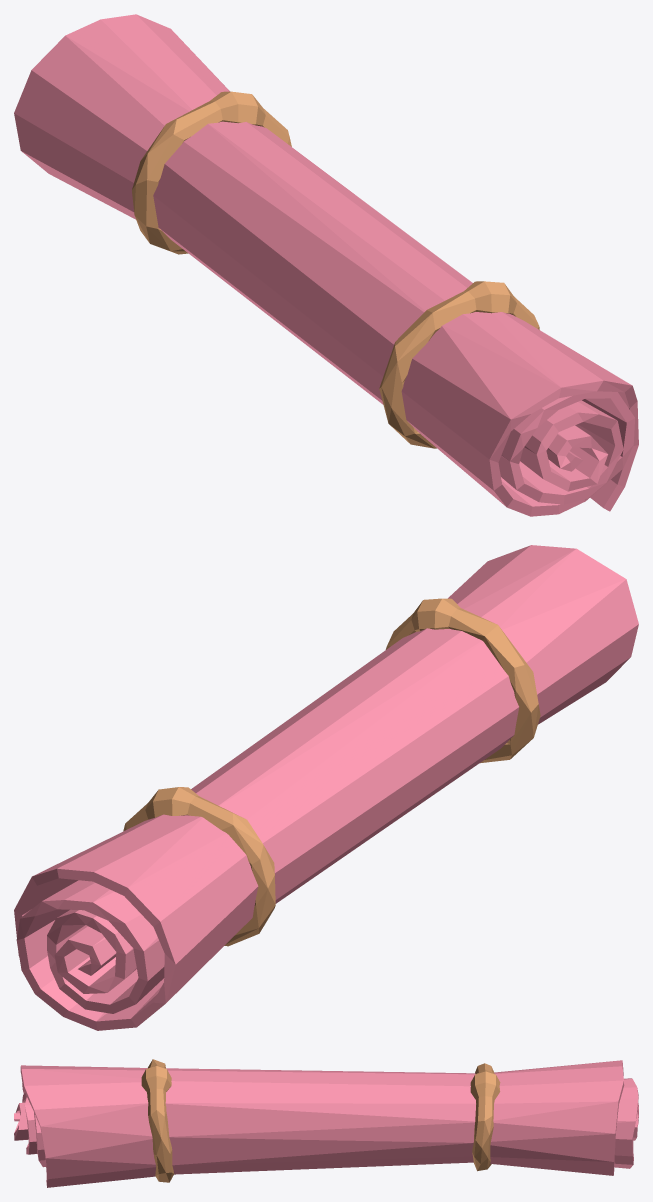
The model's file is Cloth 05.fbx.
The picture shows the model from 3 angles, top to bottom: view 1: azimuth 30°, elevation 25°; view 2: azimuth 150°, elevation 25°; view 3: azimuth 270°, elevation 25°; orthographic projection. The views are drawn at different scales.
Visible parts, largest first — view 1: Cloth 05; view 2: Cloth 05; view 3: Cloth 05.
Boxes of the visible parts, x1,y1,x2,y2 form: Cloth 05: (14, 14, 638, 516); Cloth 05: (14, 545, 638, 1030); Cloth 05: (14, 1059, 638, 1187).
Size of the model in its own units: 40.5 by 38.57 by 198.
